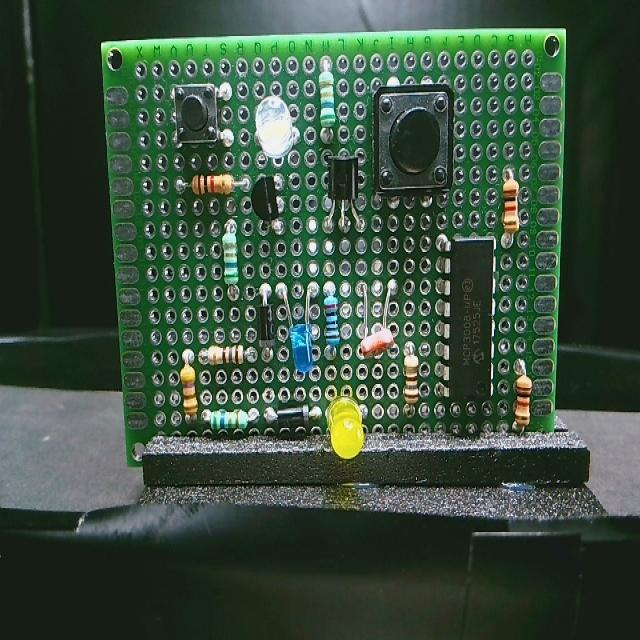IC: (434, 232, 501, 414)
cds: (360, 320, 393, 367)
diode: (251, 290, 275, 354), (262, 403, 318, 430)
led: (252, 97, 302, 163), (328, 390, 364, 464), (286, 312, 314, 377)
resistor: (313, 64, 340, 125), (499, 172, 524, 237), (512, 366, 534, 434), (184, 171, 238, 197), (323, 283, 342, 356), (176, 362, 200, 418), (221, 222, 239, 296), (208, 406, 249, 435), (204, 345, 247, 370), (402, 355, 422, 407)
switch: (371, 82, 455, 200), (172, 81, 223, 145)
transistor: (324, 151, 362, 220), (251, 174, 282, 225)
